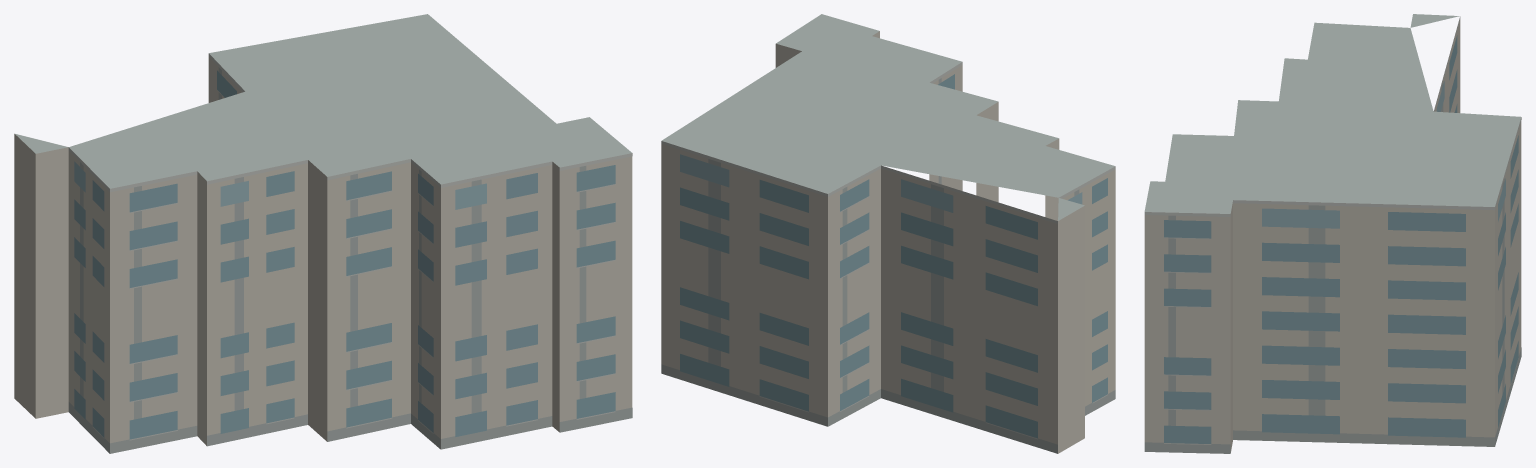
Rendered from survey-upis-32919267.glb.
3 views of the same model, side by side, from view 1: azimuth 30°, elevation 25°; view 2: azimuth 150°, elevation 25°; view 3: azimuth 270°, elevation 25° (orthographic). The views are drawn at different scales.
Parts seen in each view (by area): view 1: survey-upis-32919267.tmp; view 2: survey-upis-32919267.tmp; view 3: survey-upis-32919267.tmp.
Boxes of the visible parts, x1,y1,x2,y2 form: survey-upis-32919267.tmp: (14,14,632,453); survey-upis-32919267.tmp: (661,14,1115,453); survey-upis-32919267.tmp: (1144,14,1521,453).
Bounding box in the file's own units: 34.08 × 19.05 × 27.15.
